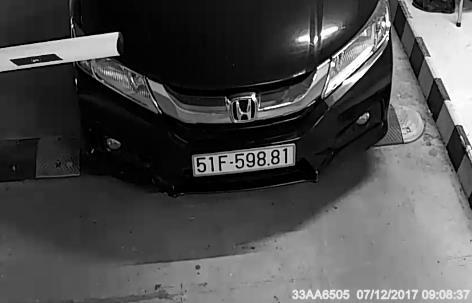License-plate: (180, 136, 306, 184)
